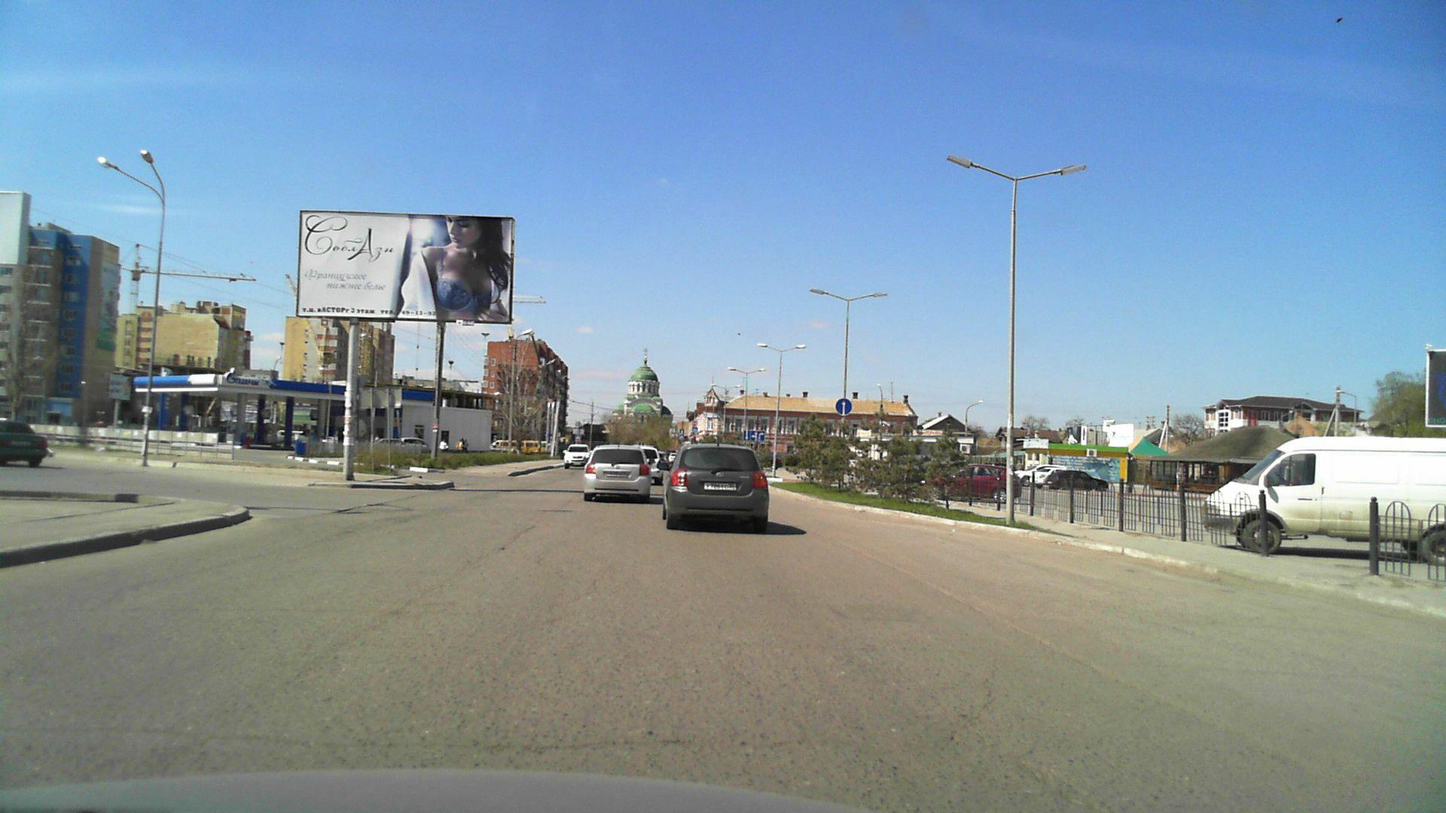road_sign: (835, 397, 853, 416)
